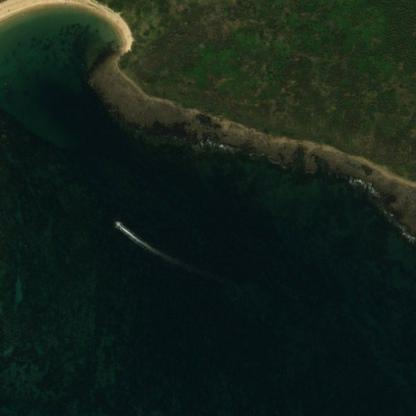ship: (116, 221, 118, 225)
